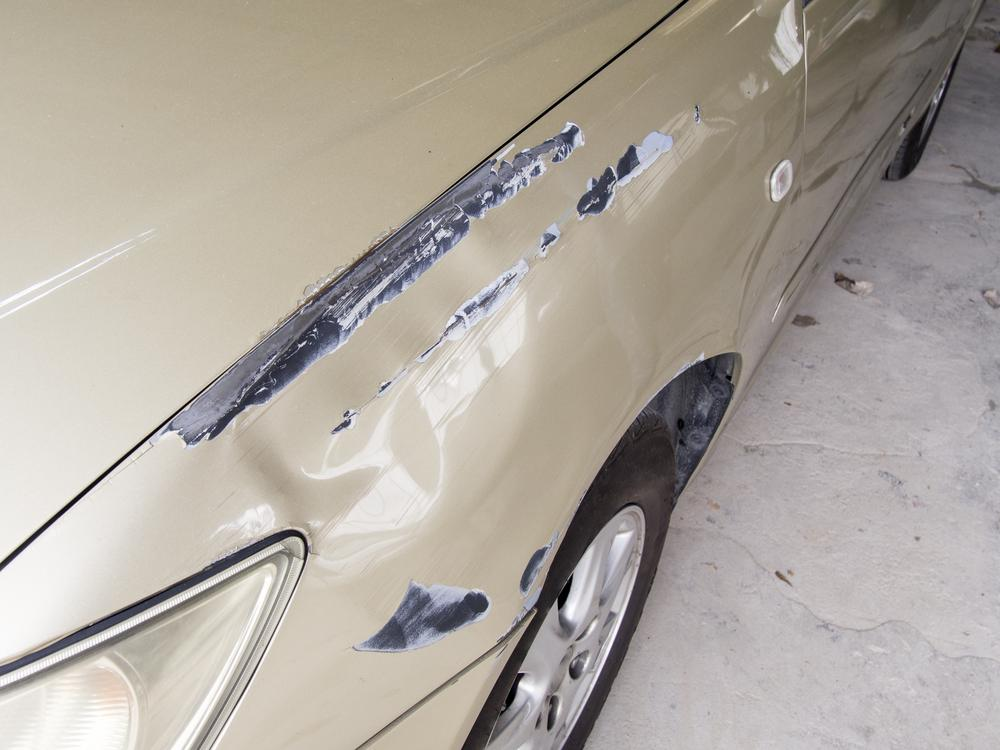dent: (227, 310, 530, 570)
scratch: (159, 111, 707, 456), (357, 581, 494, 654)
